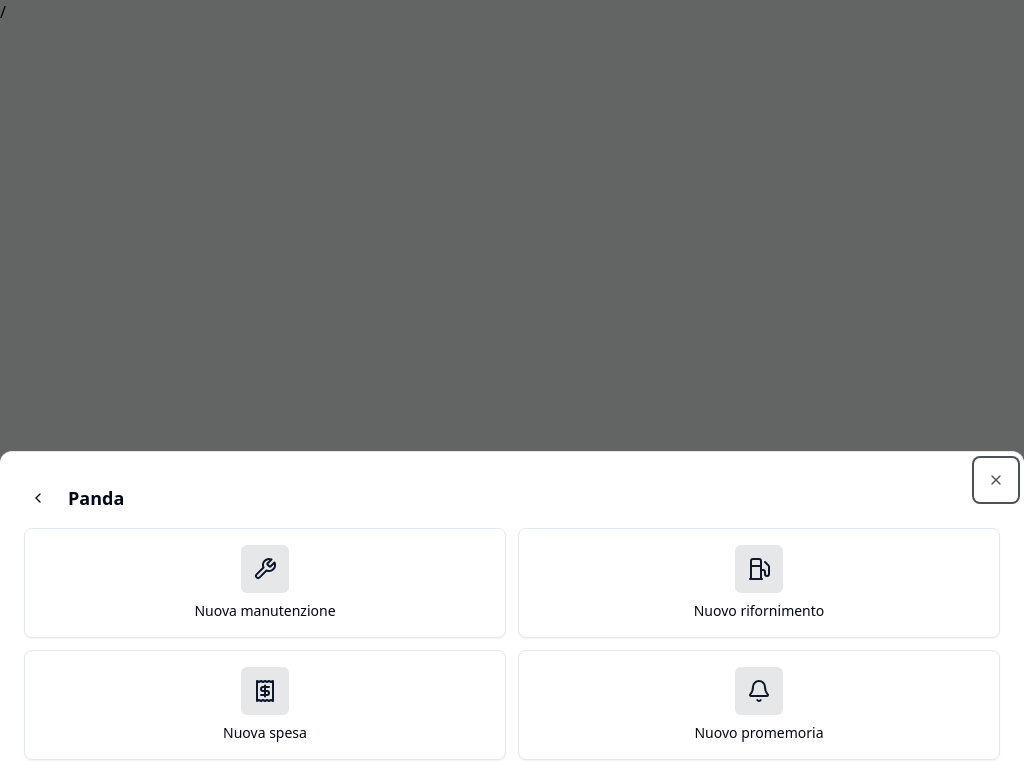
Scenario: QuickAddSheet › con un solo veicolo salta la scelta del veicolo e propone subito cosa aggiungere
This screenshot has width=1024, height=768.
Click the button "Nuovo rifornimento" at (759, 583), box 518,528 -> 1000,638
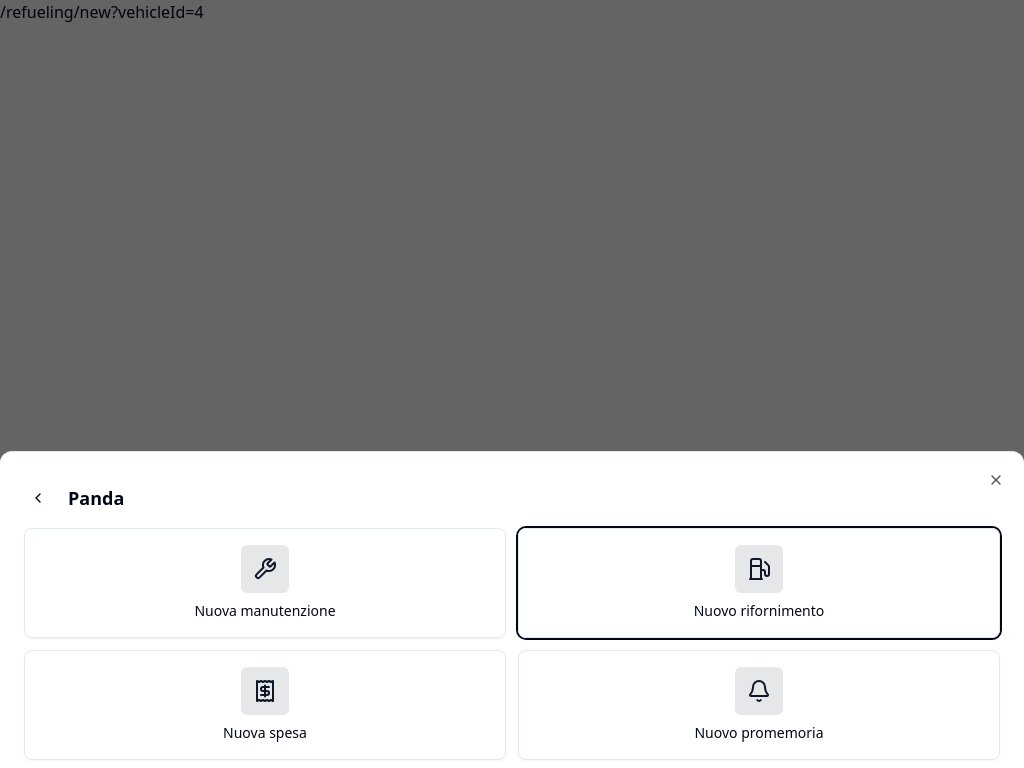
expect the text with test id "where" reads "/refueling/new?vehicleId=4": met, box 0,1 -> 204,23
